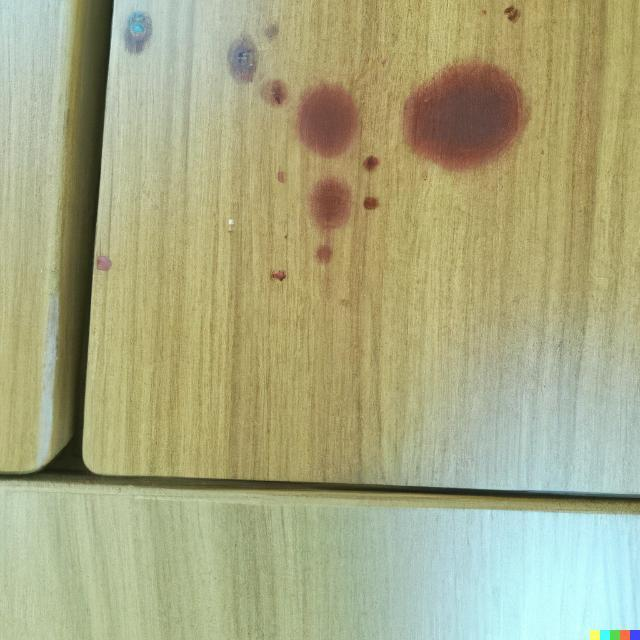blood: (400, 61, 526, 172), (294, 81, 359, 159), (307, 174, 352, 265), (260, 79, 289, 108), (362, 155, 379, 171), (363, 196, 378, 209)
